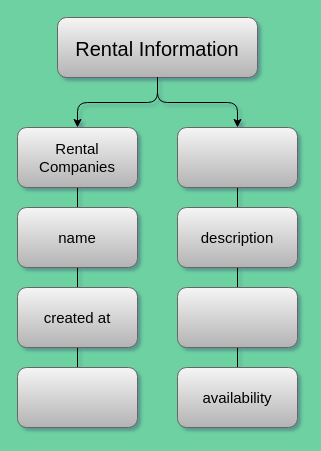
Image size: 321x451. Some labels were removed from this diagram. Here are the shapes that lost their labels. From the top down, the centre of each, then its label:
At (237,157): "Truck Sizes".
At (237,317): "dimensions".
At (77,397): "updated at".
